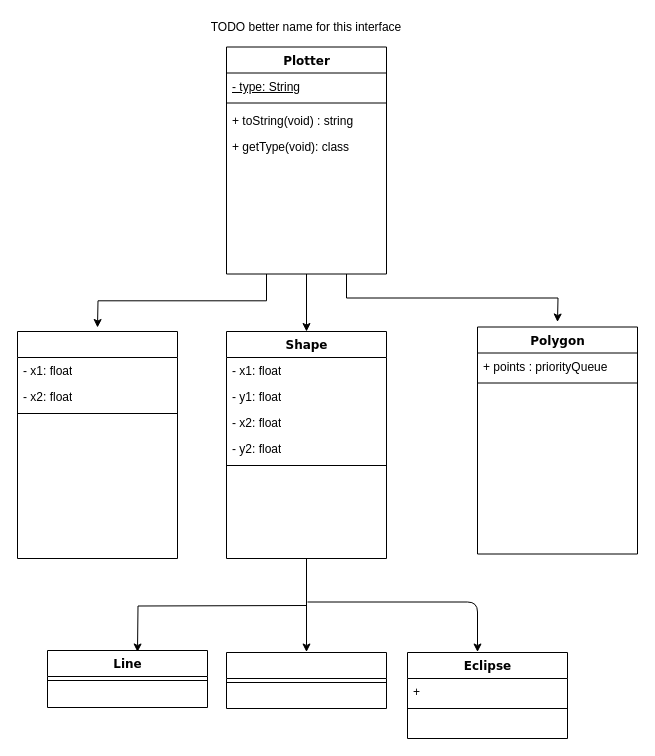
This 655x756 diagram has some shape labels left out. Here are the shapes that lost their labels. From the top down, the box of each, then its label:
(16, 330, 178, 558): Plot
(226, 652, 386, 708): Rectangle
